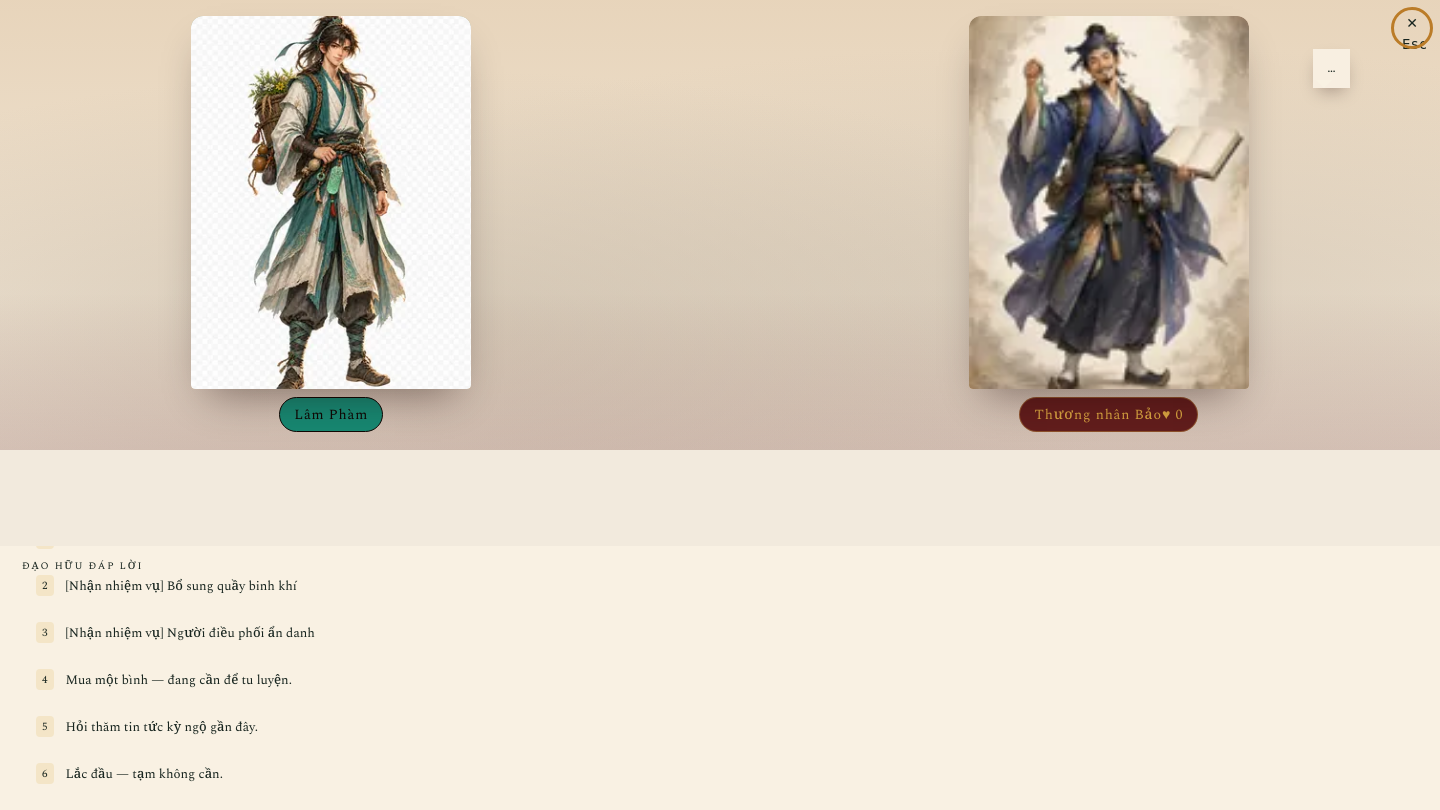
T5: social chat choices dispatch talk › re-renders ♥ with the new affection once the talk reaches the engine
This screenshot has width=1440, height=810.
(page scrolled)
Expected: the text with test id "chat-rapport" reads "♥ 0", [1162,404,1183,425]
Click the button "5 Hỏi thăm tin tức kỳ ngộ gần đây.": (162, 726) [22,706,1418,747]
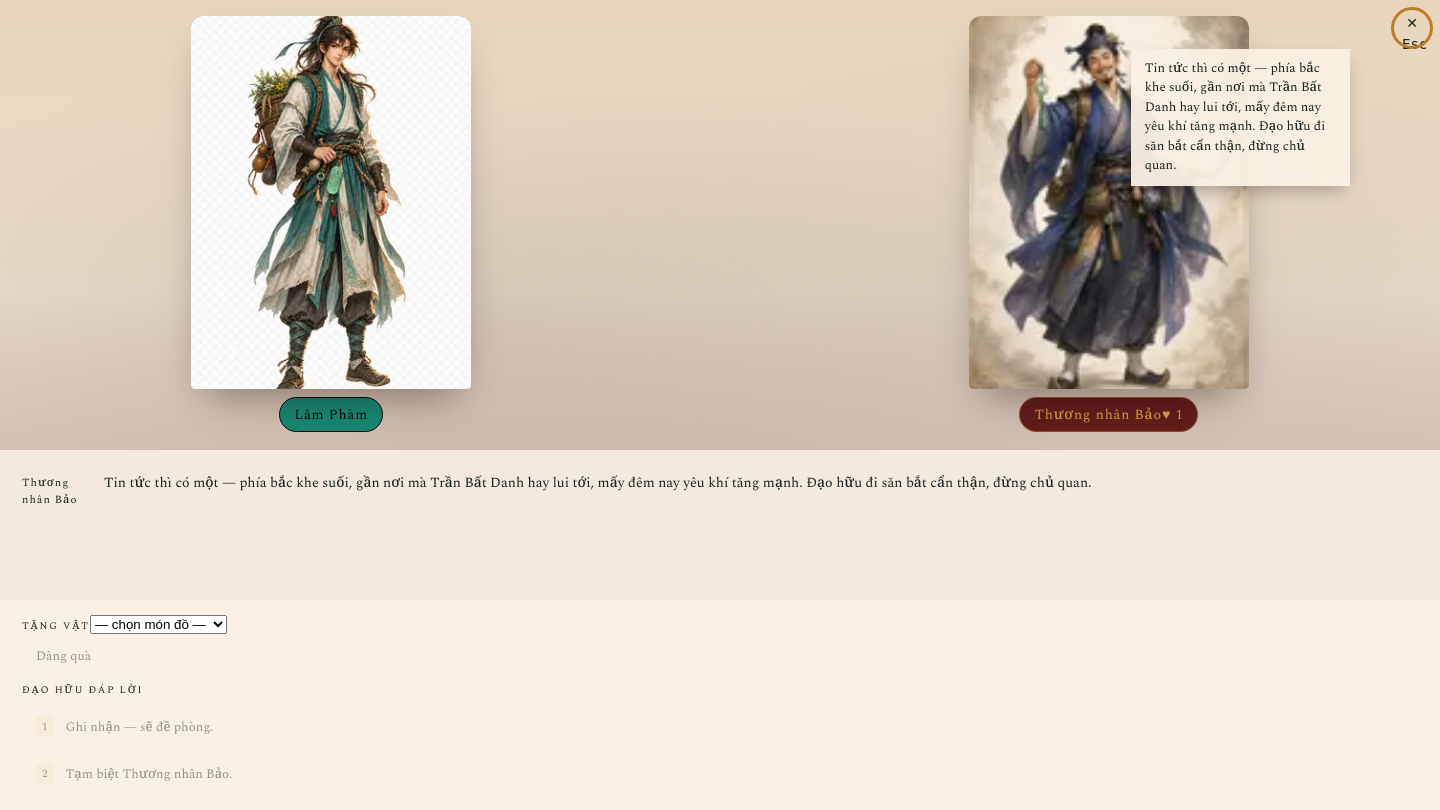
Now the text with test id "chat-rapport" reads "♥ 1", box [1162,404,1183,425]
